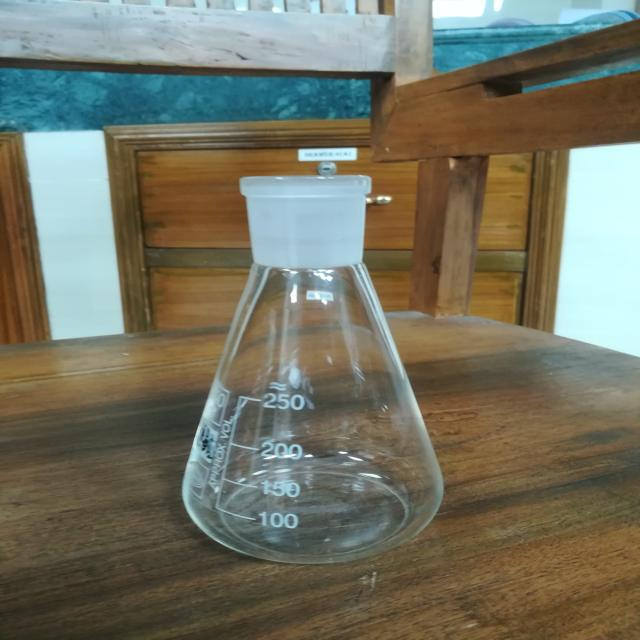Conical_Flask: (160, 132, 474, 588)
